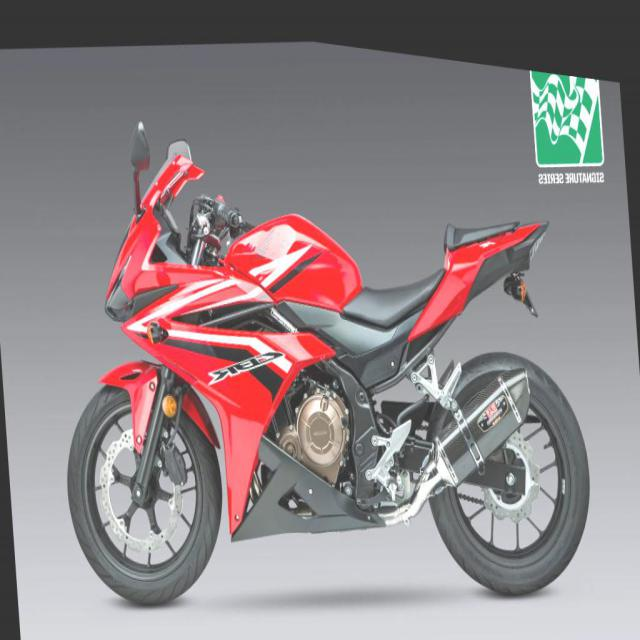CBR500R: (40, 37, 596, 639)
